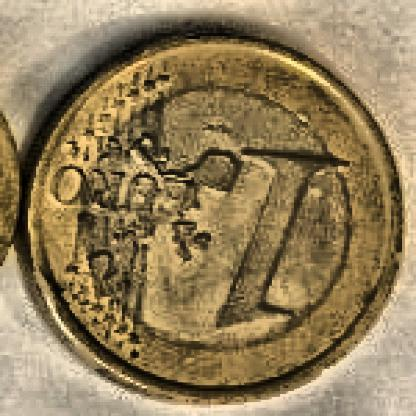coin: (21, 34, 408, 411)
